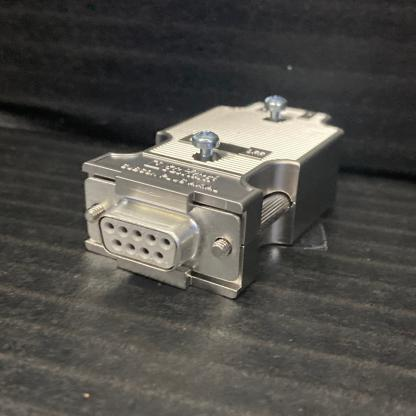SP0000010: (62, 55, 374, 308)
